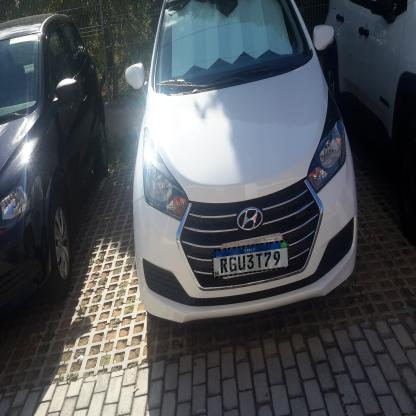PlacaM: (212, 240, 290, 278)
